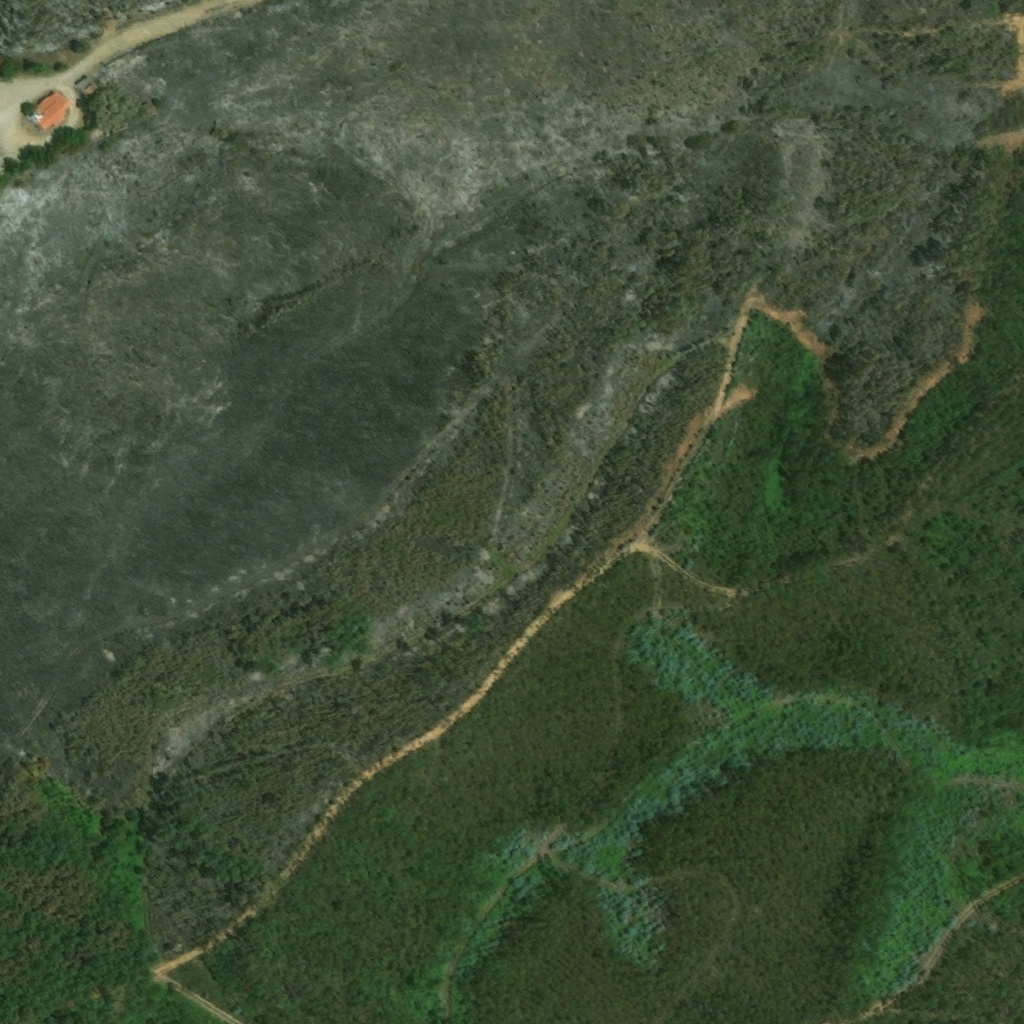0 no-damage: (24, 89, 71, 132)
3 destroyed: (73, 69, 102, 98), (84, 127, 107, 148), (140, 101, 158, 119)
